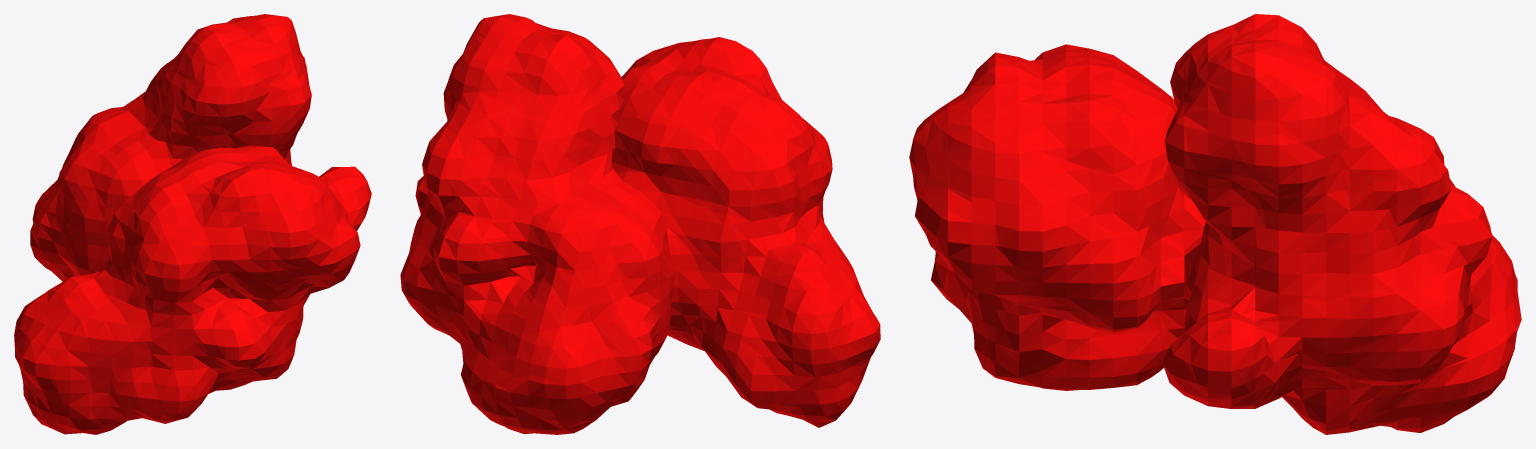
Rendered from rlmN_coarse.dae.
3 renders of one model, left to right at view 1: azimuth 30°, elevation 25°; view 2: azimuth 150°, elevation 25°; view 3: azimuth 270°, elevation 25°, orthographic. The views are drawn at different scales.
Parts seen in each view (by area): view 1: rlmN; view 2: rlmN; view 3: rlmN.
Boxes of the visible parts, bbox=[...] form: rlmN: bbox=[14, 14, 371, 434]; rlmN: bbox=[400, 14, 880, 434]; rlmN: bbox=[909, 14, 1521, 434].
Bounding box in the file's own units: 87.23 × 72.95 × 87.1.
